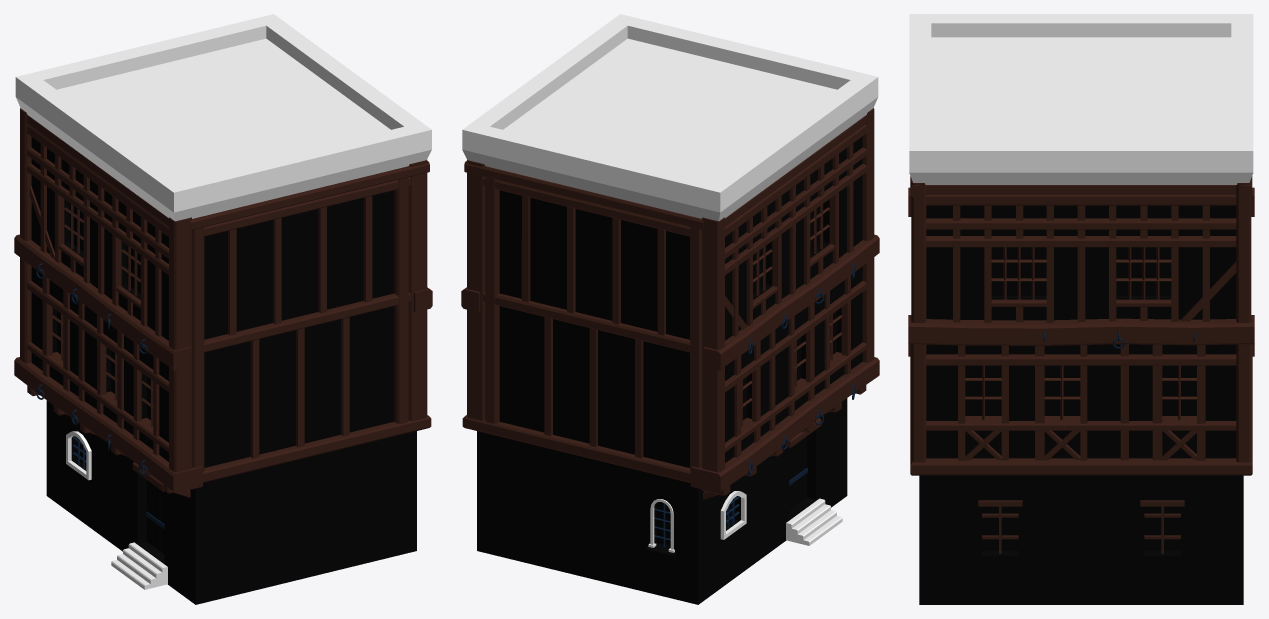
Rendered from civilian_house_20.FBX.
3 renders of one model, left to right at view 1: azimuth 30°, elevation 25°; view 2: azimuth 150°, elevation 25°; view 3: azimuth 270°, elevation 25°, orthographic. The views are drawn at different scales.
Visible parts, largest first — view 1: civilian_house_20; view 2: civilian_house_20; view 3: civilian_house_20.
Part boxes in pixels (box(x1,y1,x2,y2)): civilian_house_20: box(14, 14, 432, 604); civilian_house_20: box(461, 14, 879, 604); civilian_house_20: box(908, 14, 1254, 604).
Bounding box in the file's own units: 729 × 1093 × 746.
